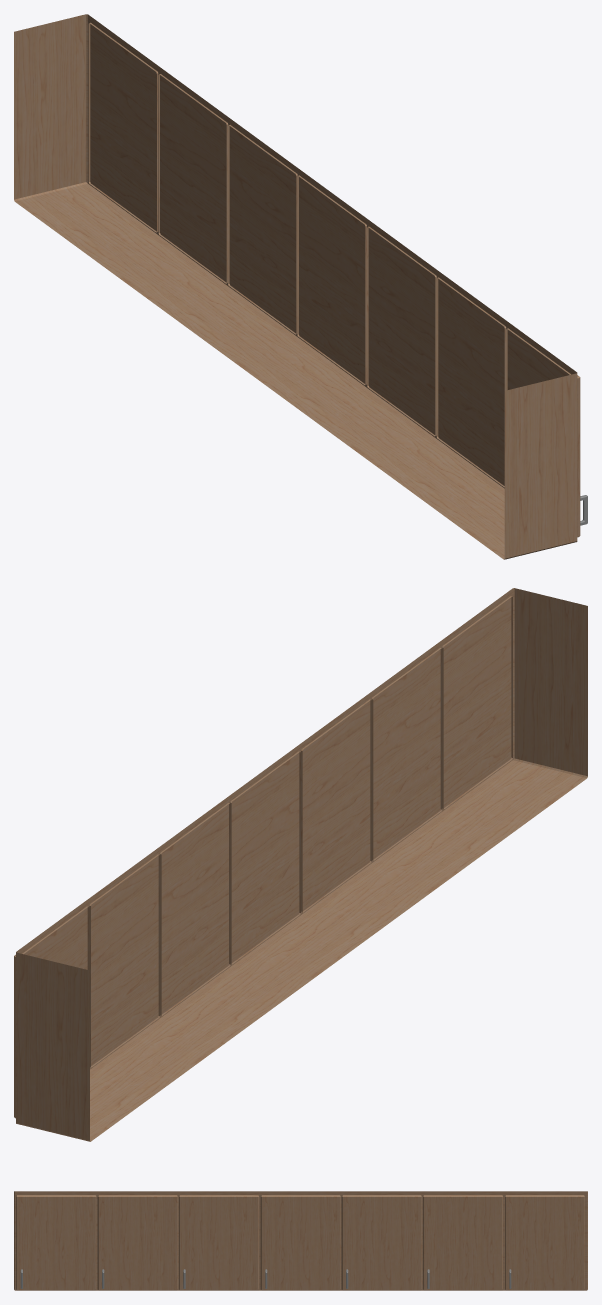
File: KitchenCabinetTop.fbx
3 views of the same model, one above another, from view 1: azimuth 30°, elevation 25°; view 2: azimuth 150°, elevation 25°; view 3: azimuth 270°, elevation 25° (orthographic). The views are drawn at different scales.
Visible parts, largest first — view 1: KitchenCabinetTop_LOD0; view 2: KitchenCabinetTop_LOD0; view 3: KitchenCabinetTop_LOD0.
Part boxes in pixels (<box>): KitchenCabinetTop_LOD0: <box>14,14,587,559</box>; KitchenCabinetTop_LOD0: <box>14,588,587,1141</box>; KitchenCabinetTop_LOD0: <box>14,1191,587,1290</box>.
Size of what is drawn, in the model's own units: 0.5102 by 0.9209 by 4.84.
2 materials, 2 textured.
